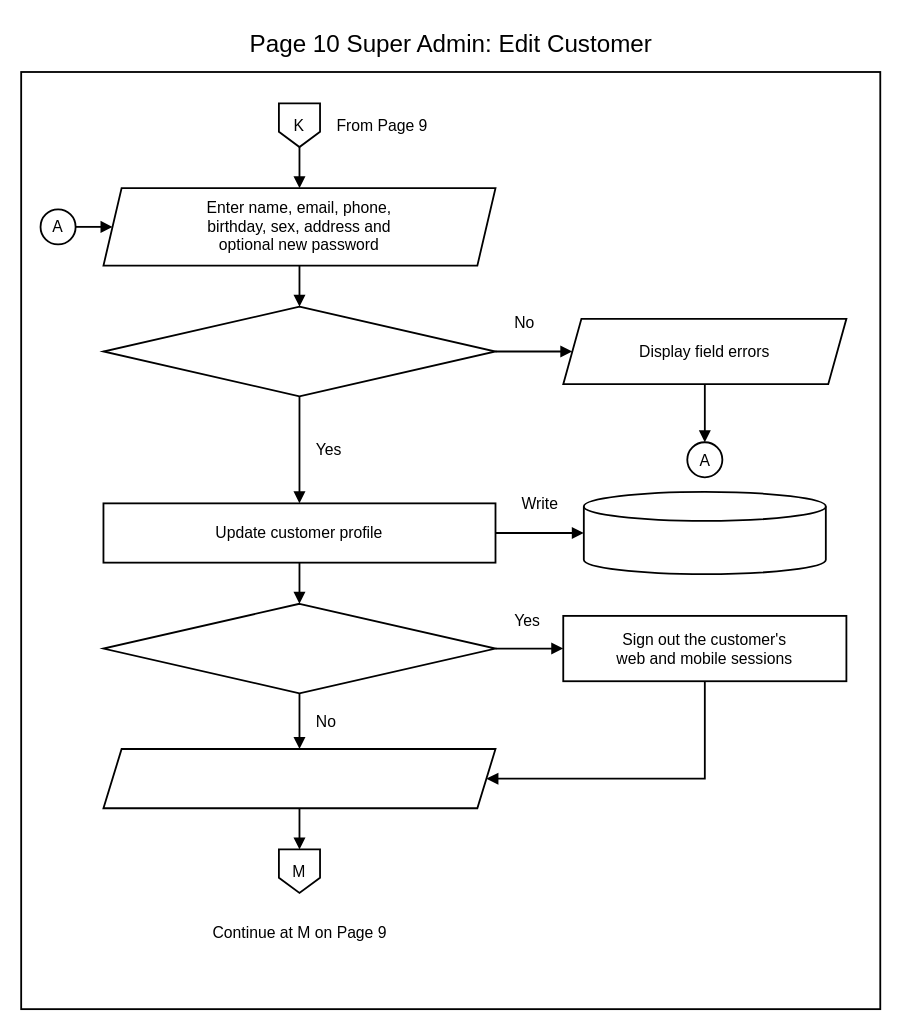
The diagram is 903 pixels wide and 1031 high, and some of its shapes have lost their labels. Here are the shapes that lost their labels. From the top down, the centre of each, then its label:
(299,351): Details valid?
(704,532): Customer accounts database
(299,648): New password set?
(299,778): Display "Customer account updated"
